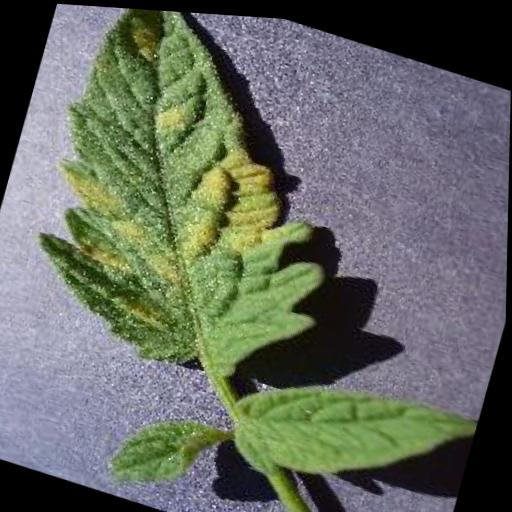Healthy: (223, 339, 482, 512)
Leaf Mold: (13, 1, 386, 395)
